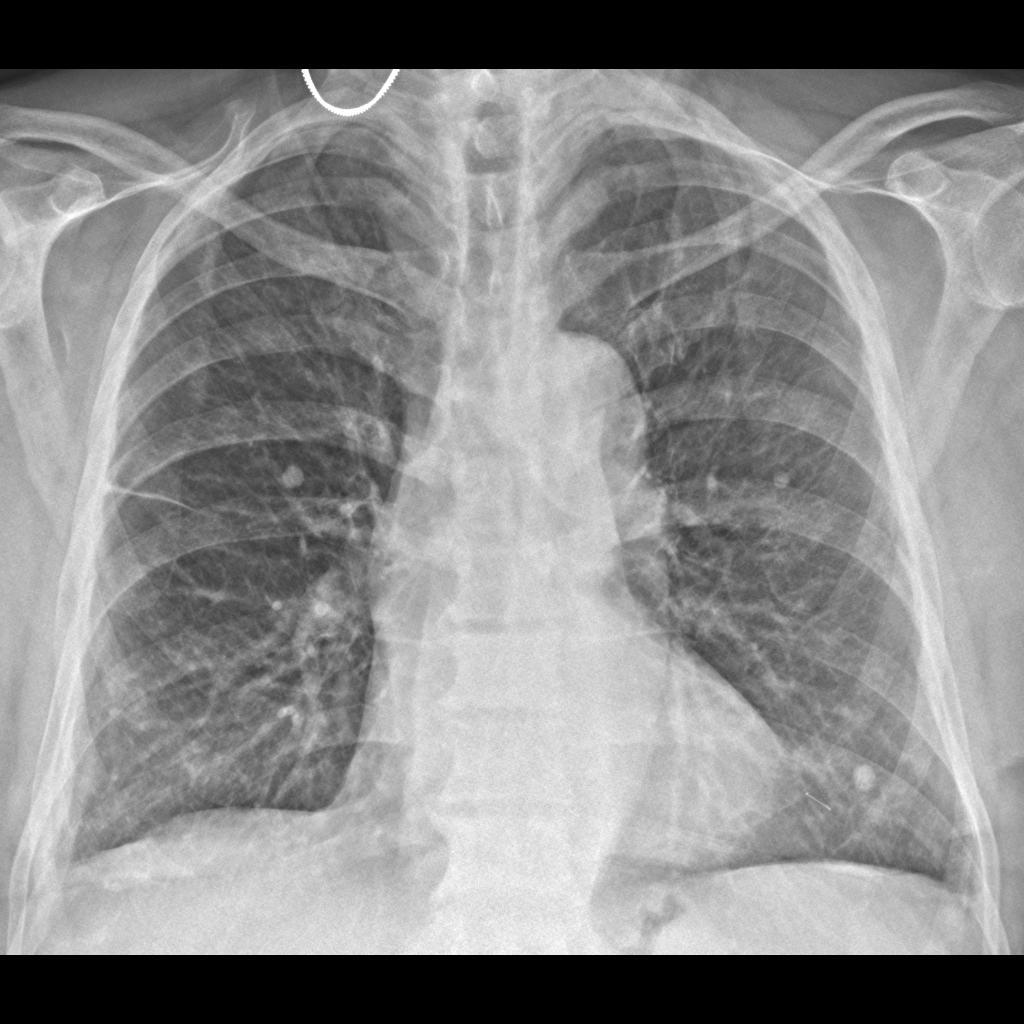Nodule: (851, 757, 880, 804), (275, 463, 312, 498)
